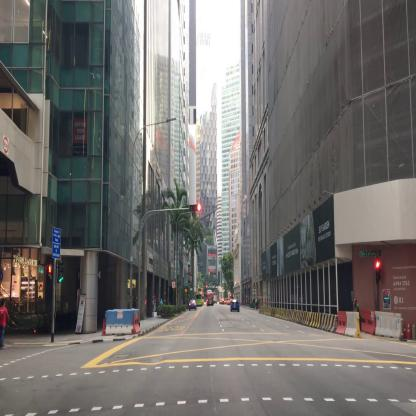red_traffic_light: (375, 260, 380, 282), (190, 204, 200, 210)
